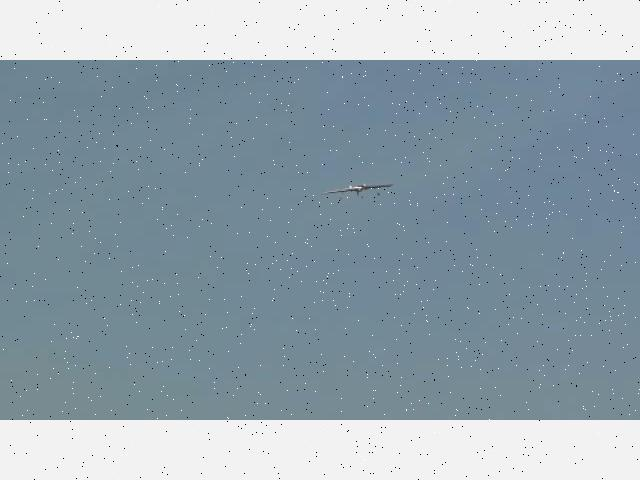Anti-Drone: (324, 185, 392, 194)
